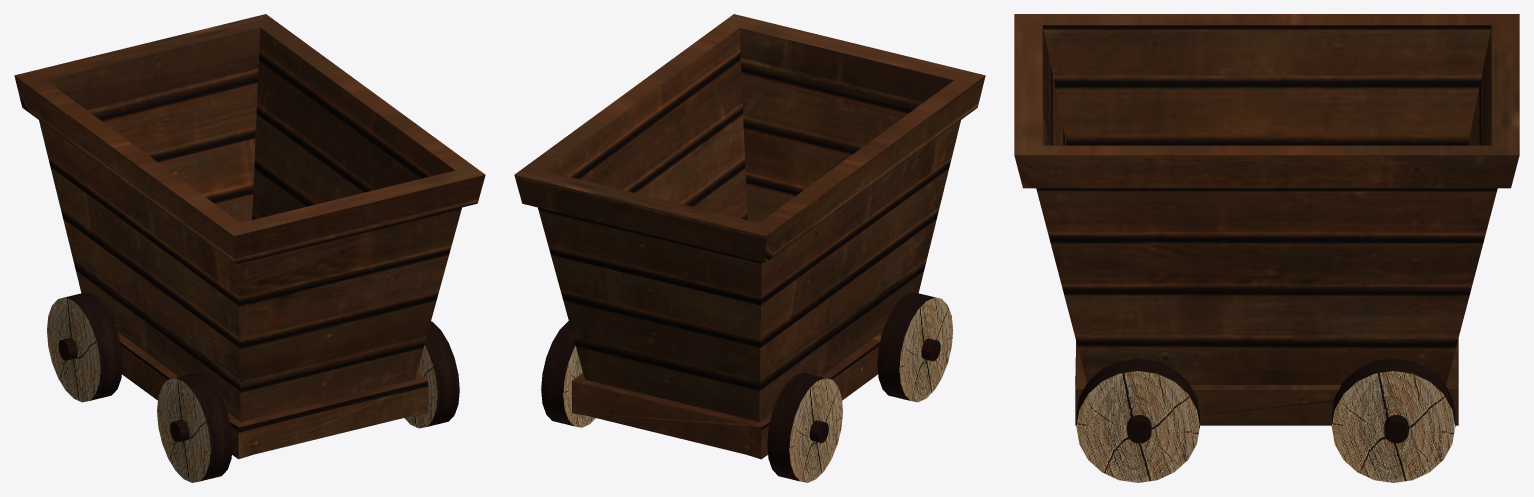
The model's file is minecart.fbx.
3 views of the same model, side by side, from view 1: azimuth 30°, elevation 25°; view 2: azimuth 150°, elevation 25°; view 3: azimuth 270°, elevation 25° (orthographic). The views are drawn at different scales.
Parts seen in each view (by area): view 1: pCube1, pCylinder9, pCylinder10, pCylinder3; view 2: pCube1, pCylinder10, pCylinder9, pCylinder8; view 3: pCube1, pCylinder8, pCylinder3, pCylinder2, pCylinder7.
Part boxes in pixels (bbox=[...]): pCube1: bbox=[14, 14, 485, 459]; pCylinder9: bbox=[47, 292, 122, 402]; pCylinder10: bbox=[157, 373, 232, 482]; pCylinder3: bbox=[404, 321, 459, 428]; pCube1: bbox=[514, 14, 985, 459]; pCylinder10: bbox=[877, 292, 953, 402]; pCylinder9: bbox=[767, 373, 842, 482]; pCylinder8: bbox=[541, 321, 595, 427]; pCube1: bbox=[1014, 14, 1519, 425]; pCylinder8: bbox=[1331, 358, 1455, 482]; pCylinder3: bbox=[1076, 358, 1199, 482]; pCylinder2: bbox=[1127, 415, 1151, 443]; pCylinder7: bbox=[1384, 415, 1408, 443].
Bounding box in the file's own units: 2.96 × 2.99 × 4.19.
3 materials, 3 textured.
